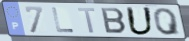7: (23, 5, 46, 34)
B: (99, 7, 128, 36)
L: (50, 7, 76, 34)
Q: (151, 7, 182, 37)
T: (76, 7, 97, 34)
U: (125, 6, 155, 36)
